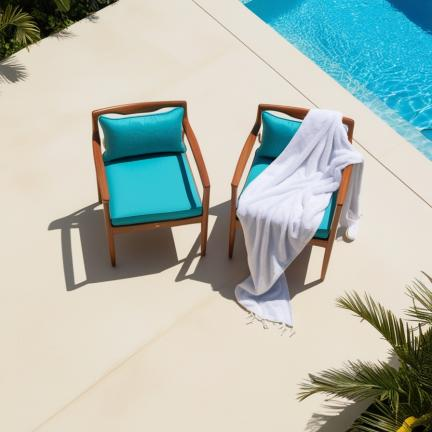empty chair: (92, 101, 210, 266)
occupied chair: (229, 105, 364, 327)
